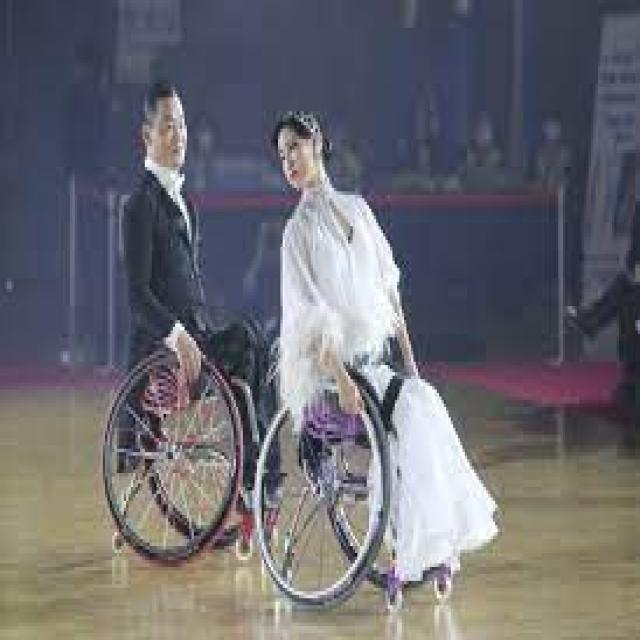wheelchair: (266, 81, 502, 606), (100, 80, 257, 563)
